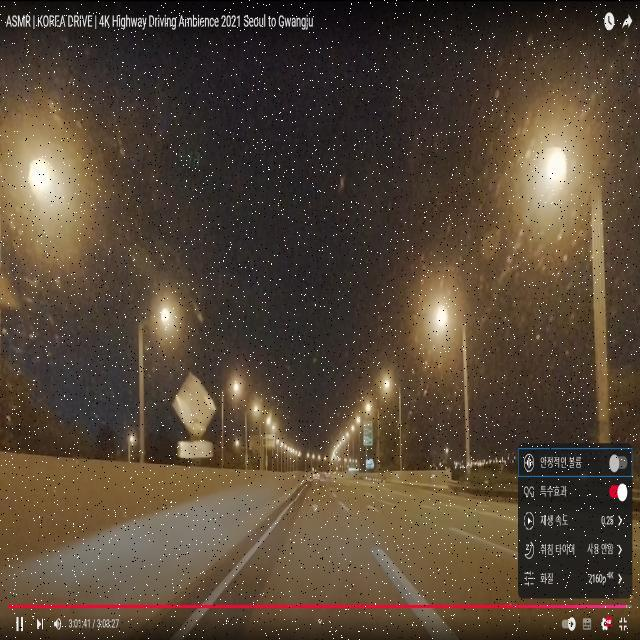forward: (267, 502, 362, 518)
